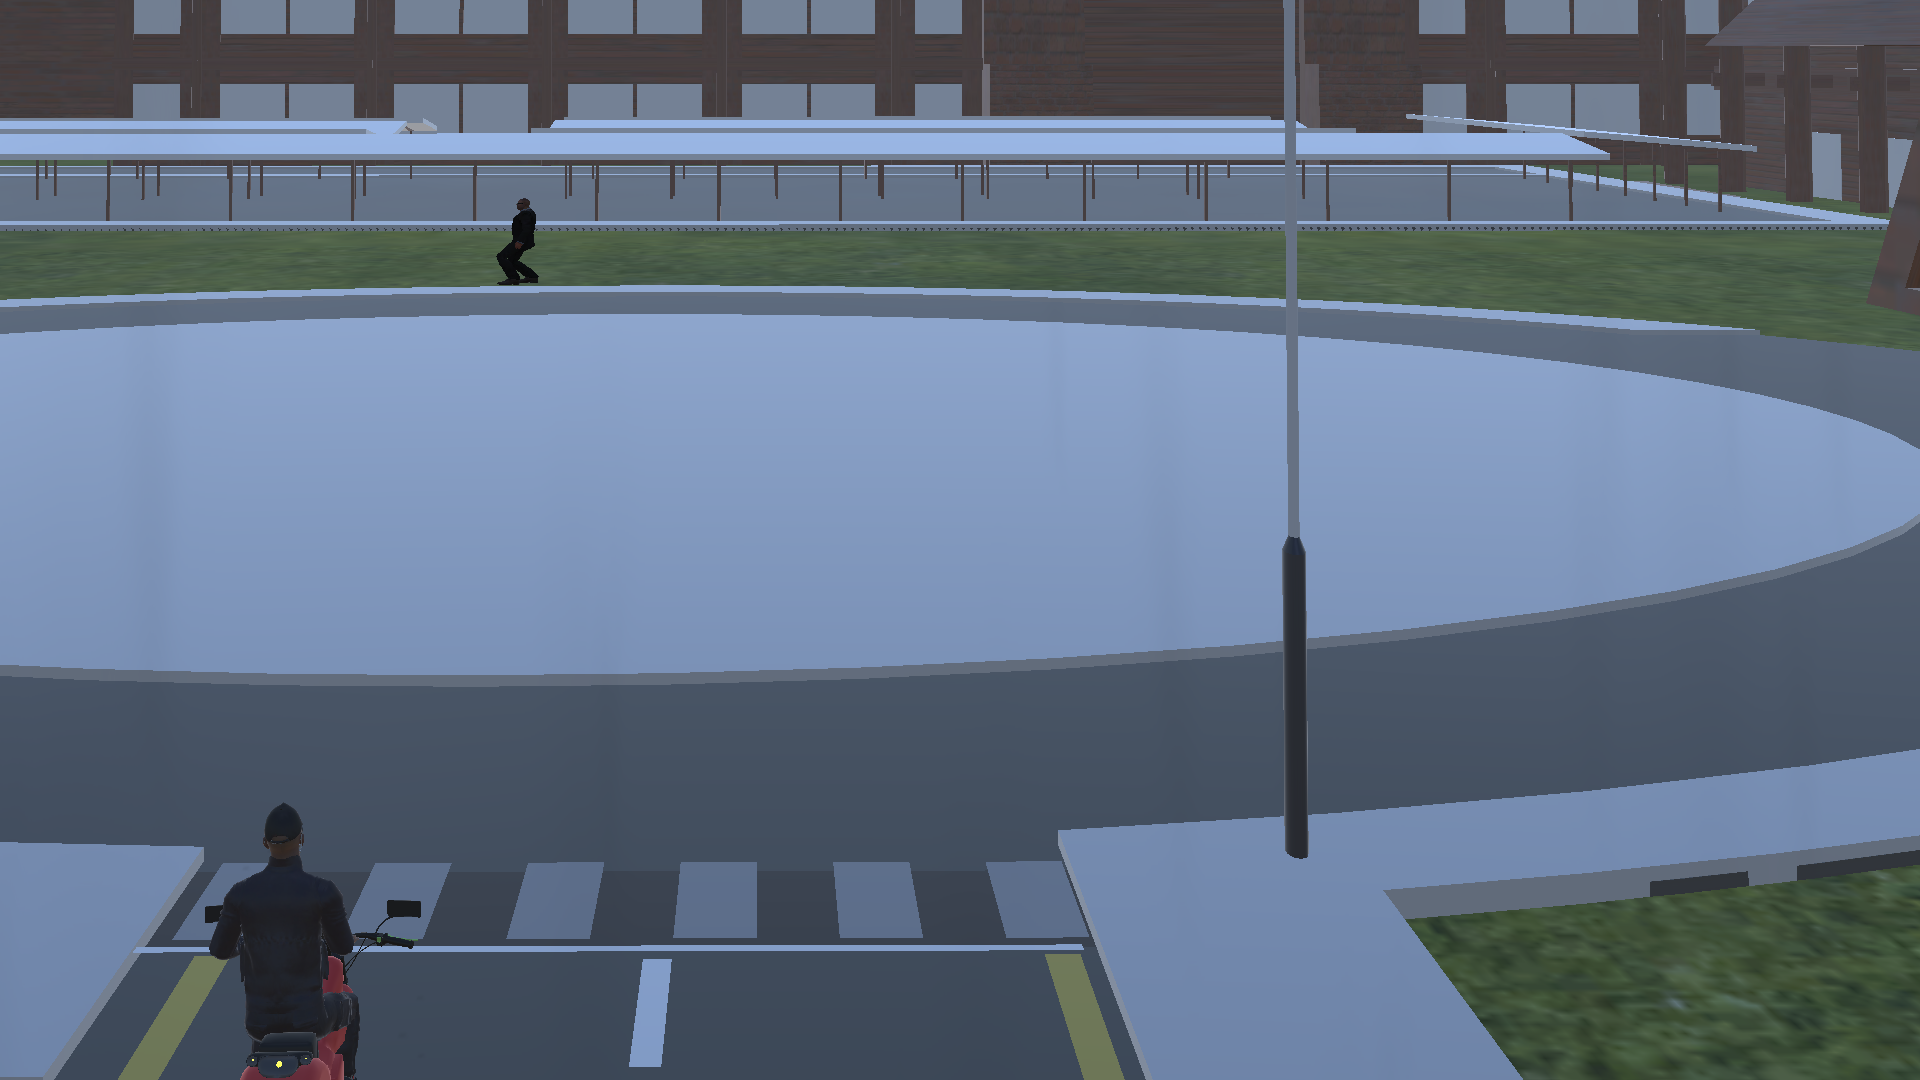pedestrian: (491, 192, 553, 287)
